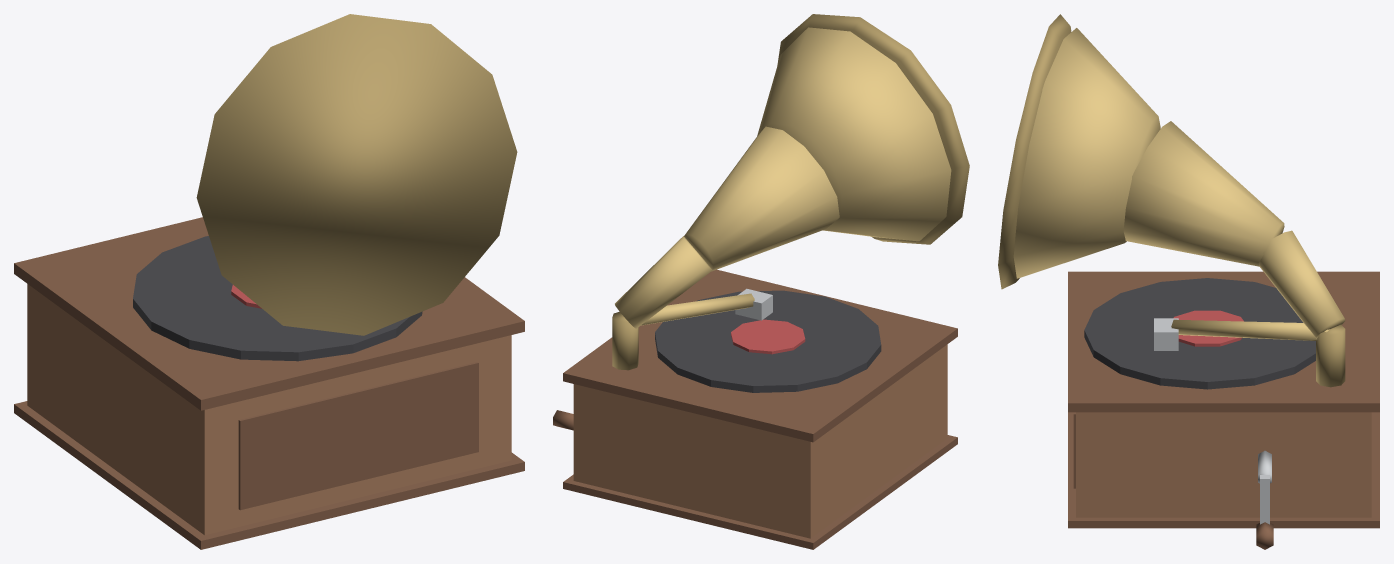
File: scrap_gramophone.fbx
3 views of the same model, side by side, from view 1: azimuth 30°, elevation 25°; view 2: azimuth 150°, elevation 25°; view 3: azimuth 270°, elevation 25° (orthographic). The views are drawn at different scales.
Visible parts, largest first — view 1: scrap_gramophone; view 2: scrap_gramophone; view 3: scrap_gramophone.
Part boxes in pixels (x1,y1,x2,y2): scrap_gramophone: (14,14,524,549); scrap_gramophone: (553,14,969,549); scrap_gramophone: (998,14,1379,549).
Bounding box in the file's own units: 0.4817 × 0.5725 × 0.4651.
